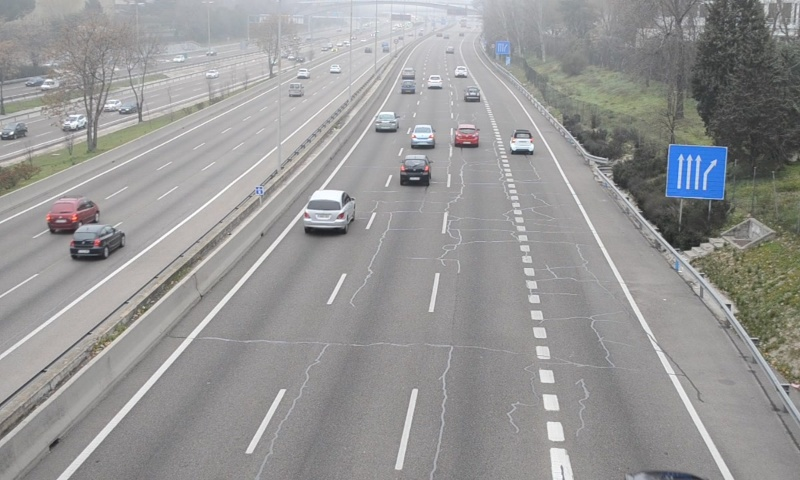car: (304, 188, 356, 230), (399, 155, 432, 186), (510, 128, 533, 156), (455, 123, 480, 148), (411, 124, 435, 148), (374, 112, 400, 133), (464, 86, 482, 103), (426, 74, 443, 90), (400, 80, 416, 95)
